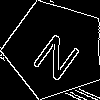N: (30, 25, 89, 83)
